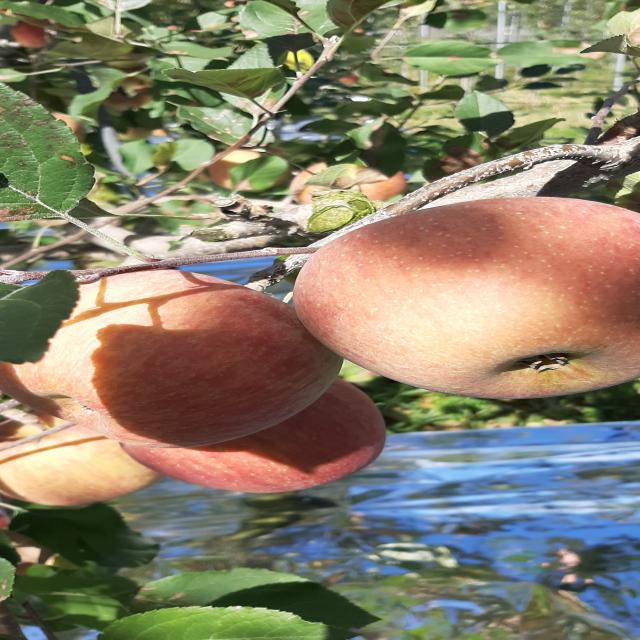fresh: (277, 184, 640, 417)
